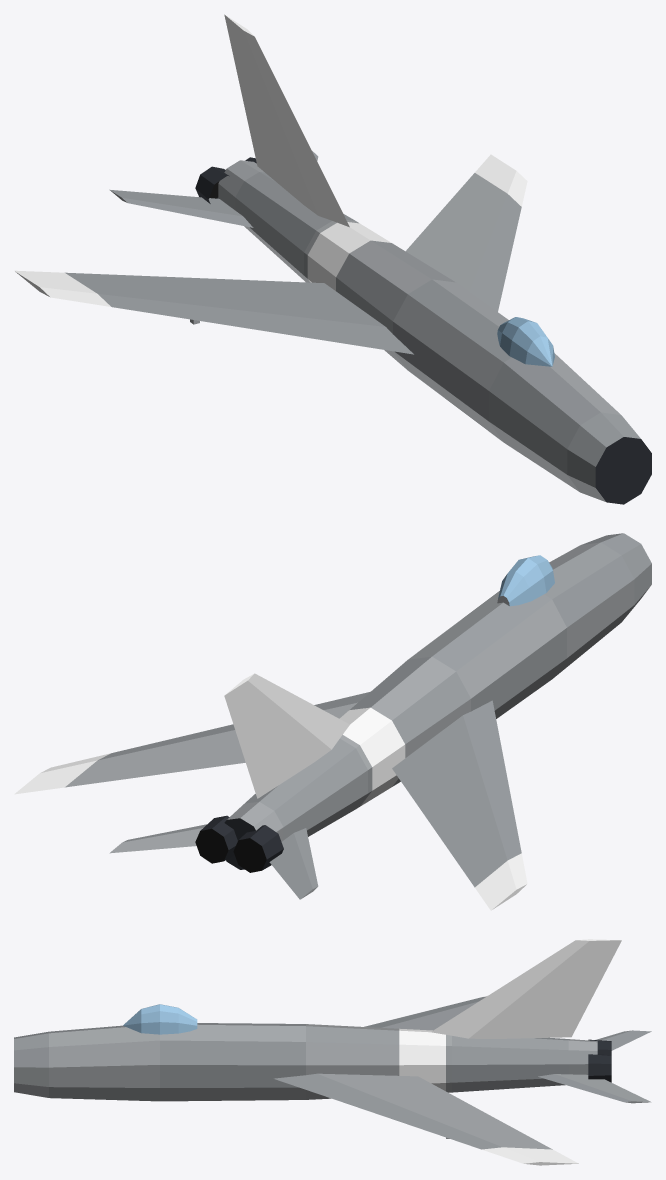
File: mig19s_lod.glb
3 views of the same model, one above another, from view 1: azimuth 30°, elevation 25°; view 2: azimuth 150°, elevation 25°; view 3: azimuth 270°, elevation 25° (orthographic). The views are drawn at different scales.
Parts seen in each view (by area): view 1: body; view 2: body; view 3: body.
Part boxes in pixels (x1,y1,x2,y2): body: (14,14,651,504); body: (14,533,651,910); body: (14,939,651,1165).
Size of the model in its own units: 9 by 3.78 by 13.7.
